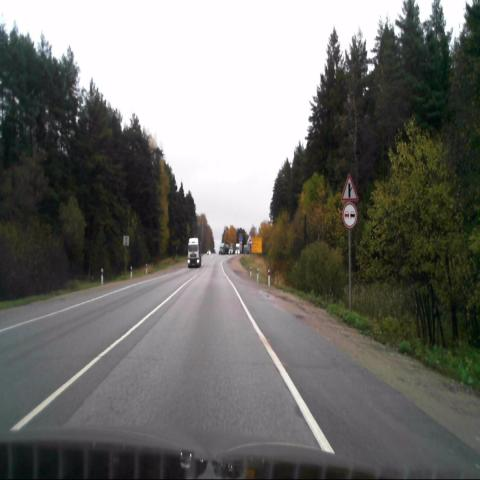2_3_4: (342, 173, 358, 201)
3_20: (342, 203, 356, 228)
